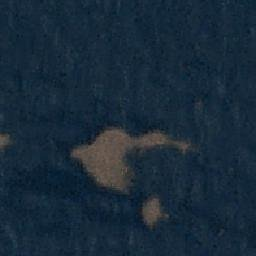debris: (80, 156, 133, 175), (94, 127, 129, 155), (142, 193, 162, 226), (131, 130, 167, 145), (96, 175, 133, 186), (167, 138, 195, 150), (71, 144, 95, 157), (1, 131, 15, 149), (114, 187, 131, 195)
